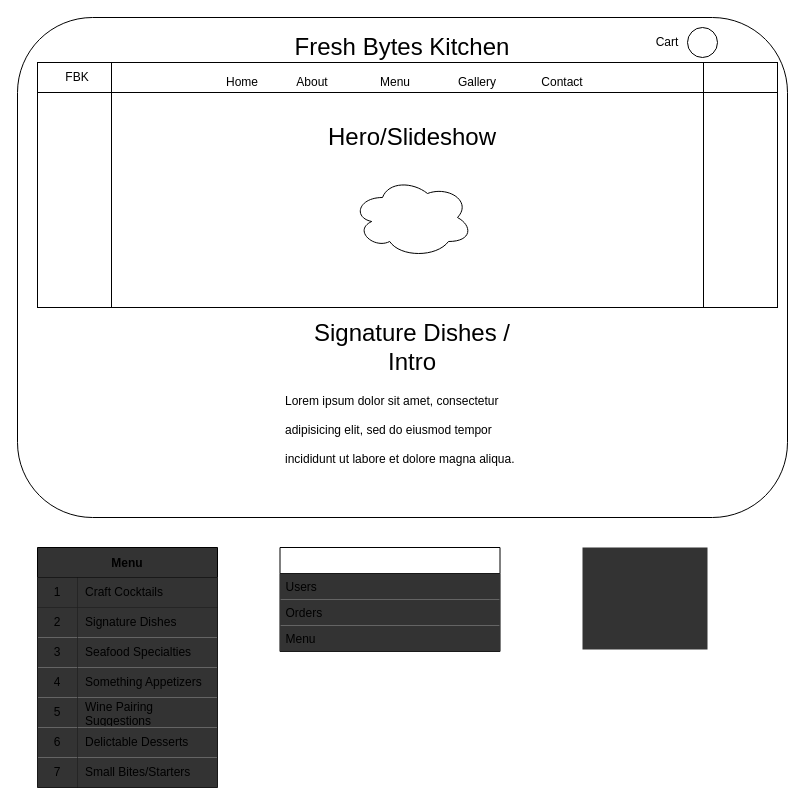
This 805x805 diagram has some shape labels left out. The shapes that lost their labels are listed below. From the top down, each one's box as (x1, y1, x2, y2) in pixels, then its label:
(279, 546, 500, 652): DB
(582, 547, 707, 649): DB/API Menu Cart Front-end
